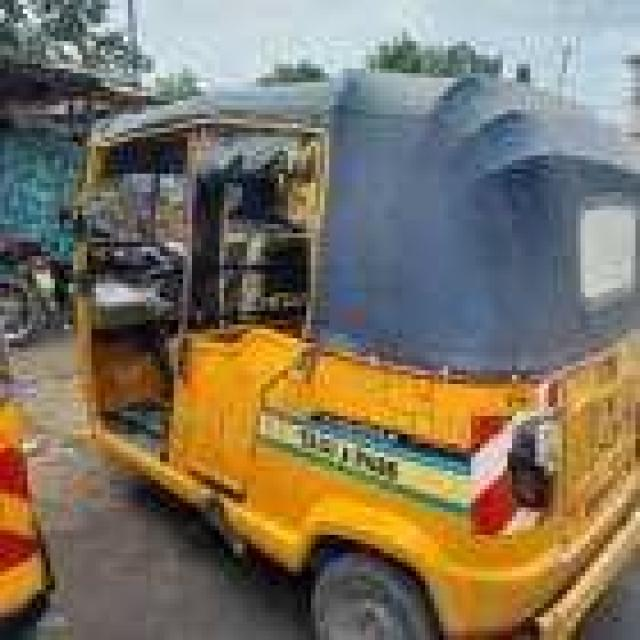tuktuk: (25, 27, 640, 640)
